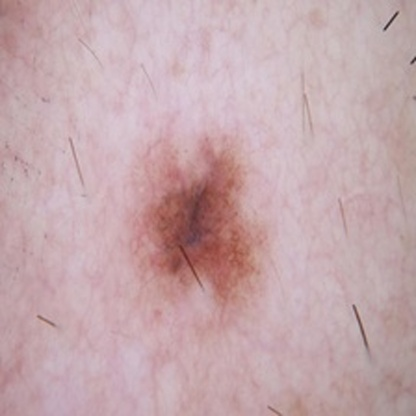benign: (153, 158, 256, 297)
